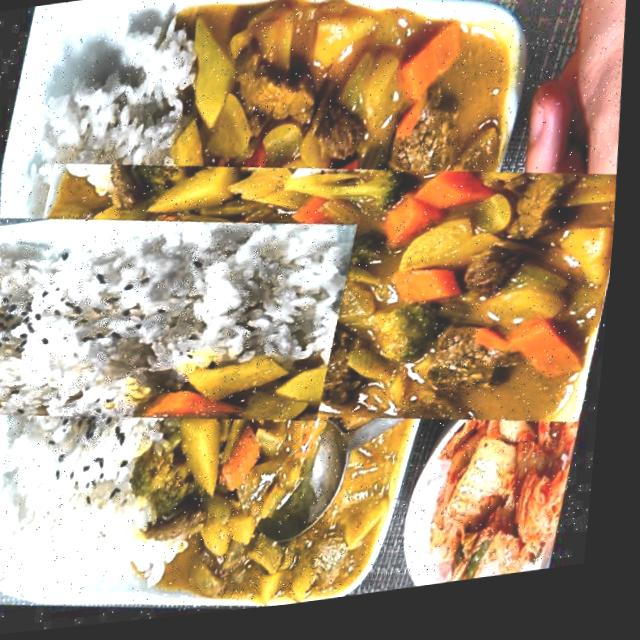Food: (64, 25, 609, 576), (0, 111, 321, 529)
